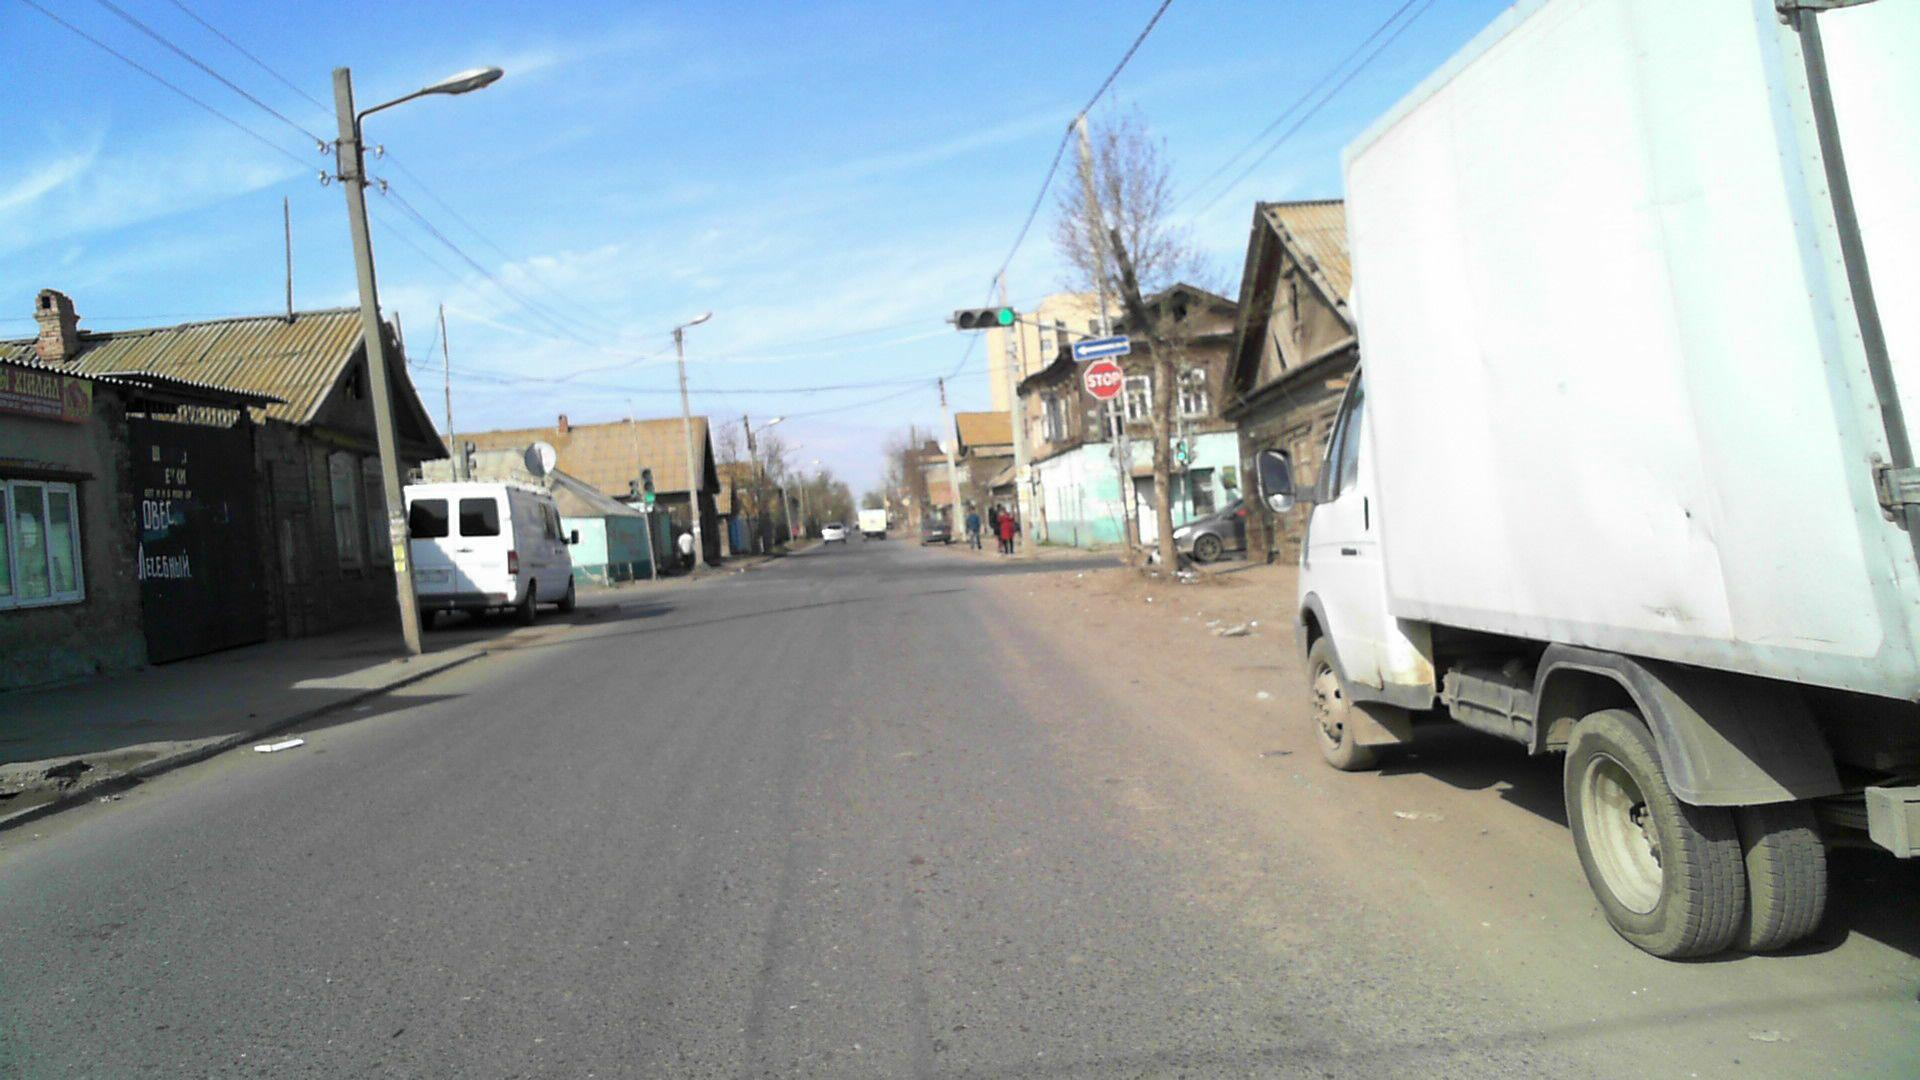2_5: (1083, 359, 1125, 402)
5_7_2: (1069, 334, 1131, 360)
